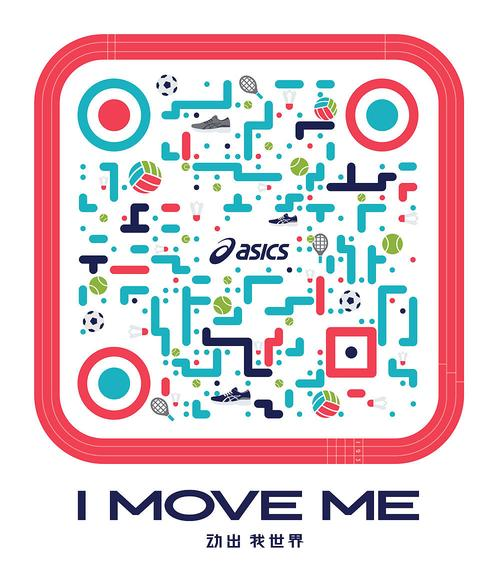QRCode: (72, 73, 426, 424)
